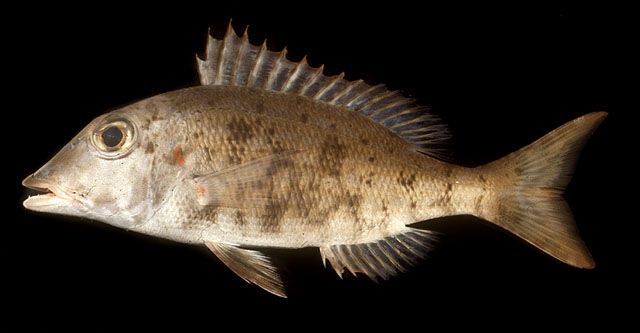fish: (22, 20, 610, 299)
